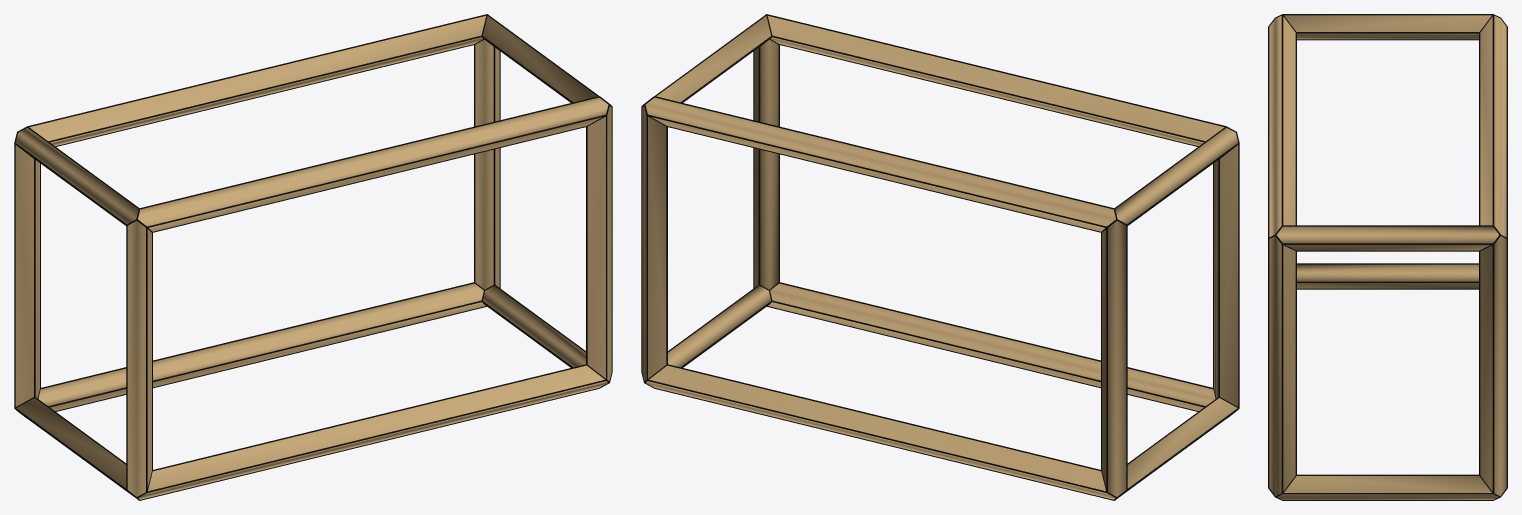
Rendered from 016-banc.glb.
3 views of the same model, side by side, from view 1: azimuth 30°, elevation 25°; view 2: azimuth 150°, elevation 25°; view 3: azimuth 270°, elevation 25° (orthographic). The views are drawn at different scales.
Visible parts, largest first — view 1: arete-X2, arete-X0, arete-X3, arete-X1, arete-Z0, arete-Z1, arete-Z2, arete-Z3, arete-wire-X0, arete-wire-X2, arete-Y2, arete-wire-X3 (+8 smaller); view 2: arete-X3, arete-X1, arete-X2, arete-X0, arete-Z2, arete-Z3, arete-Z0, arete-Z1, arete-wire-X1, arete-Y2, arete-wire-X3, arete-wire-X2 (+8 smaller); view 3: arete-Z1, arete-Z3, arete-X2, arete-X3, arete-Y3, arete-Y1, arete-Y2, arete-Y0, arete-wire-Z1, arete-wire-Z3, arete-wire-X2, arete-wire-X3 (+4 smaller).
Part boxes in pixels (left/top/right/bottom): arete-X2: left=138, top=97, right=608, bottom=231; arete-X0: left=138, top=365, right=607, bottom=499; arete-X3: left=29, top=16, right=485, bottom=146; arete-X1: left=38, top=283, right=485, bottom=410; arete-Z0: left=127, top=221, right=151, bottom=496; arete-Z1: left=587, top=106, right=611, bottom=380; arete-Z2: left=15, top=145, right=39, bottom=406; arete-Z3: left=475, top=39, right=499, bottom=289; arete-wire-X0: left=136, top=364, right=609, bottom=500; arete-wire-X2: left=136, top=96, right=609, bottom=232; arete-Y2: left=15, top=127, right=138, bottom=223; arete-wire-X3: left=28, top=14, right=487, bottom=146; arete-X3: left=645, top=97, right=1115, bottom=231; arete-X1: left=646, top=365, right=1115, bottom=499; arete-X2: left=768, top=16, right=1224, bottom=146; arete-X0: left=768, top=283, right=1215, bottom=410; arete-Z2: left=1102, top=221, right=1126, bottom=496; arete-Z3: left=642, top=106, right=666, bottom=380; arete-Z0: left=1214, top=145, right=1238, bottom=406; arete-Z1: left=754, top=39, right=778, bottom=289; arete-wire-X1: left=644, top=364, right=1116, bottom=500; arete-Y2: left=1115, top=127, right=1238, bottom=223; arete-wire-X3: left=644, top=96, right=1113, bottom=232; arete-wire-X2: left=766, top=14, right=1236, bottom=146; arete-Z1: left=1269, top=236, right=1295, bottom=495; arete-Z3: left=1480, top=236, right=1506, bottom=495; arete-X2: left=1269, top=15, right=1295, bottom=237; arete-X3: left=1480, top=15, right=1506, bottom=237; arete-Y3: left=1277, top=226, right=1498, bottom=250; arete-Y1: left=1277, top=476, right=1498, bottom=499; arete-Y2: left=1284, top=15, right=1491, bottom=39; arete-Y0: left=1297, top=264, right=1478, bottom=288; arete-wire-Z1: left=1268, top=235, right=1296, bottom=493; arete-wire-Z3: left=1479, top=238, right=1507, bottom=493; arete-wire-X2: left=1268, top=14, right=1296, bottom=238; arete-wire-X3: left=1479, top=14, right=1507, bottom=238.
Size of the model in its own units: 0.8238 by 0.4738 by 0.3738.
